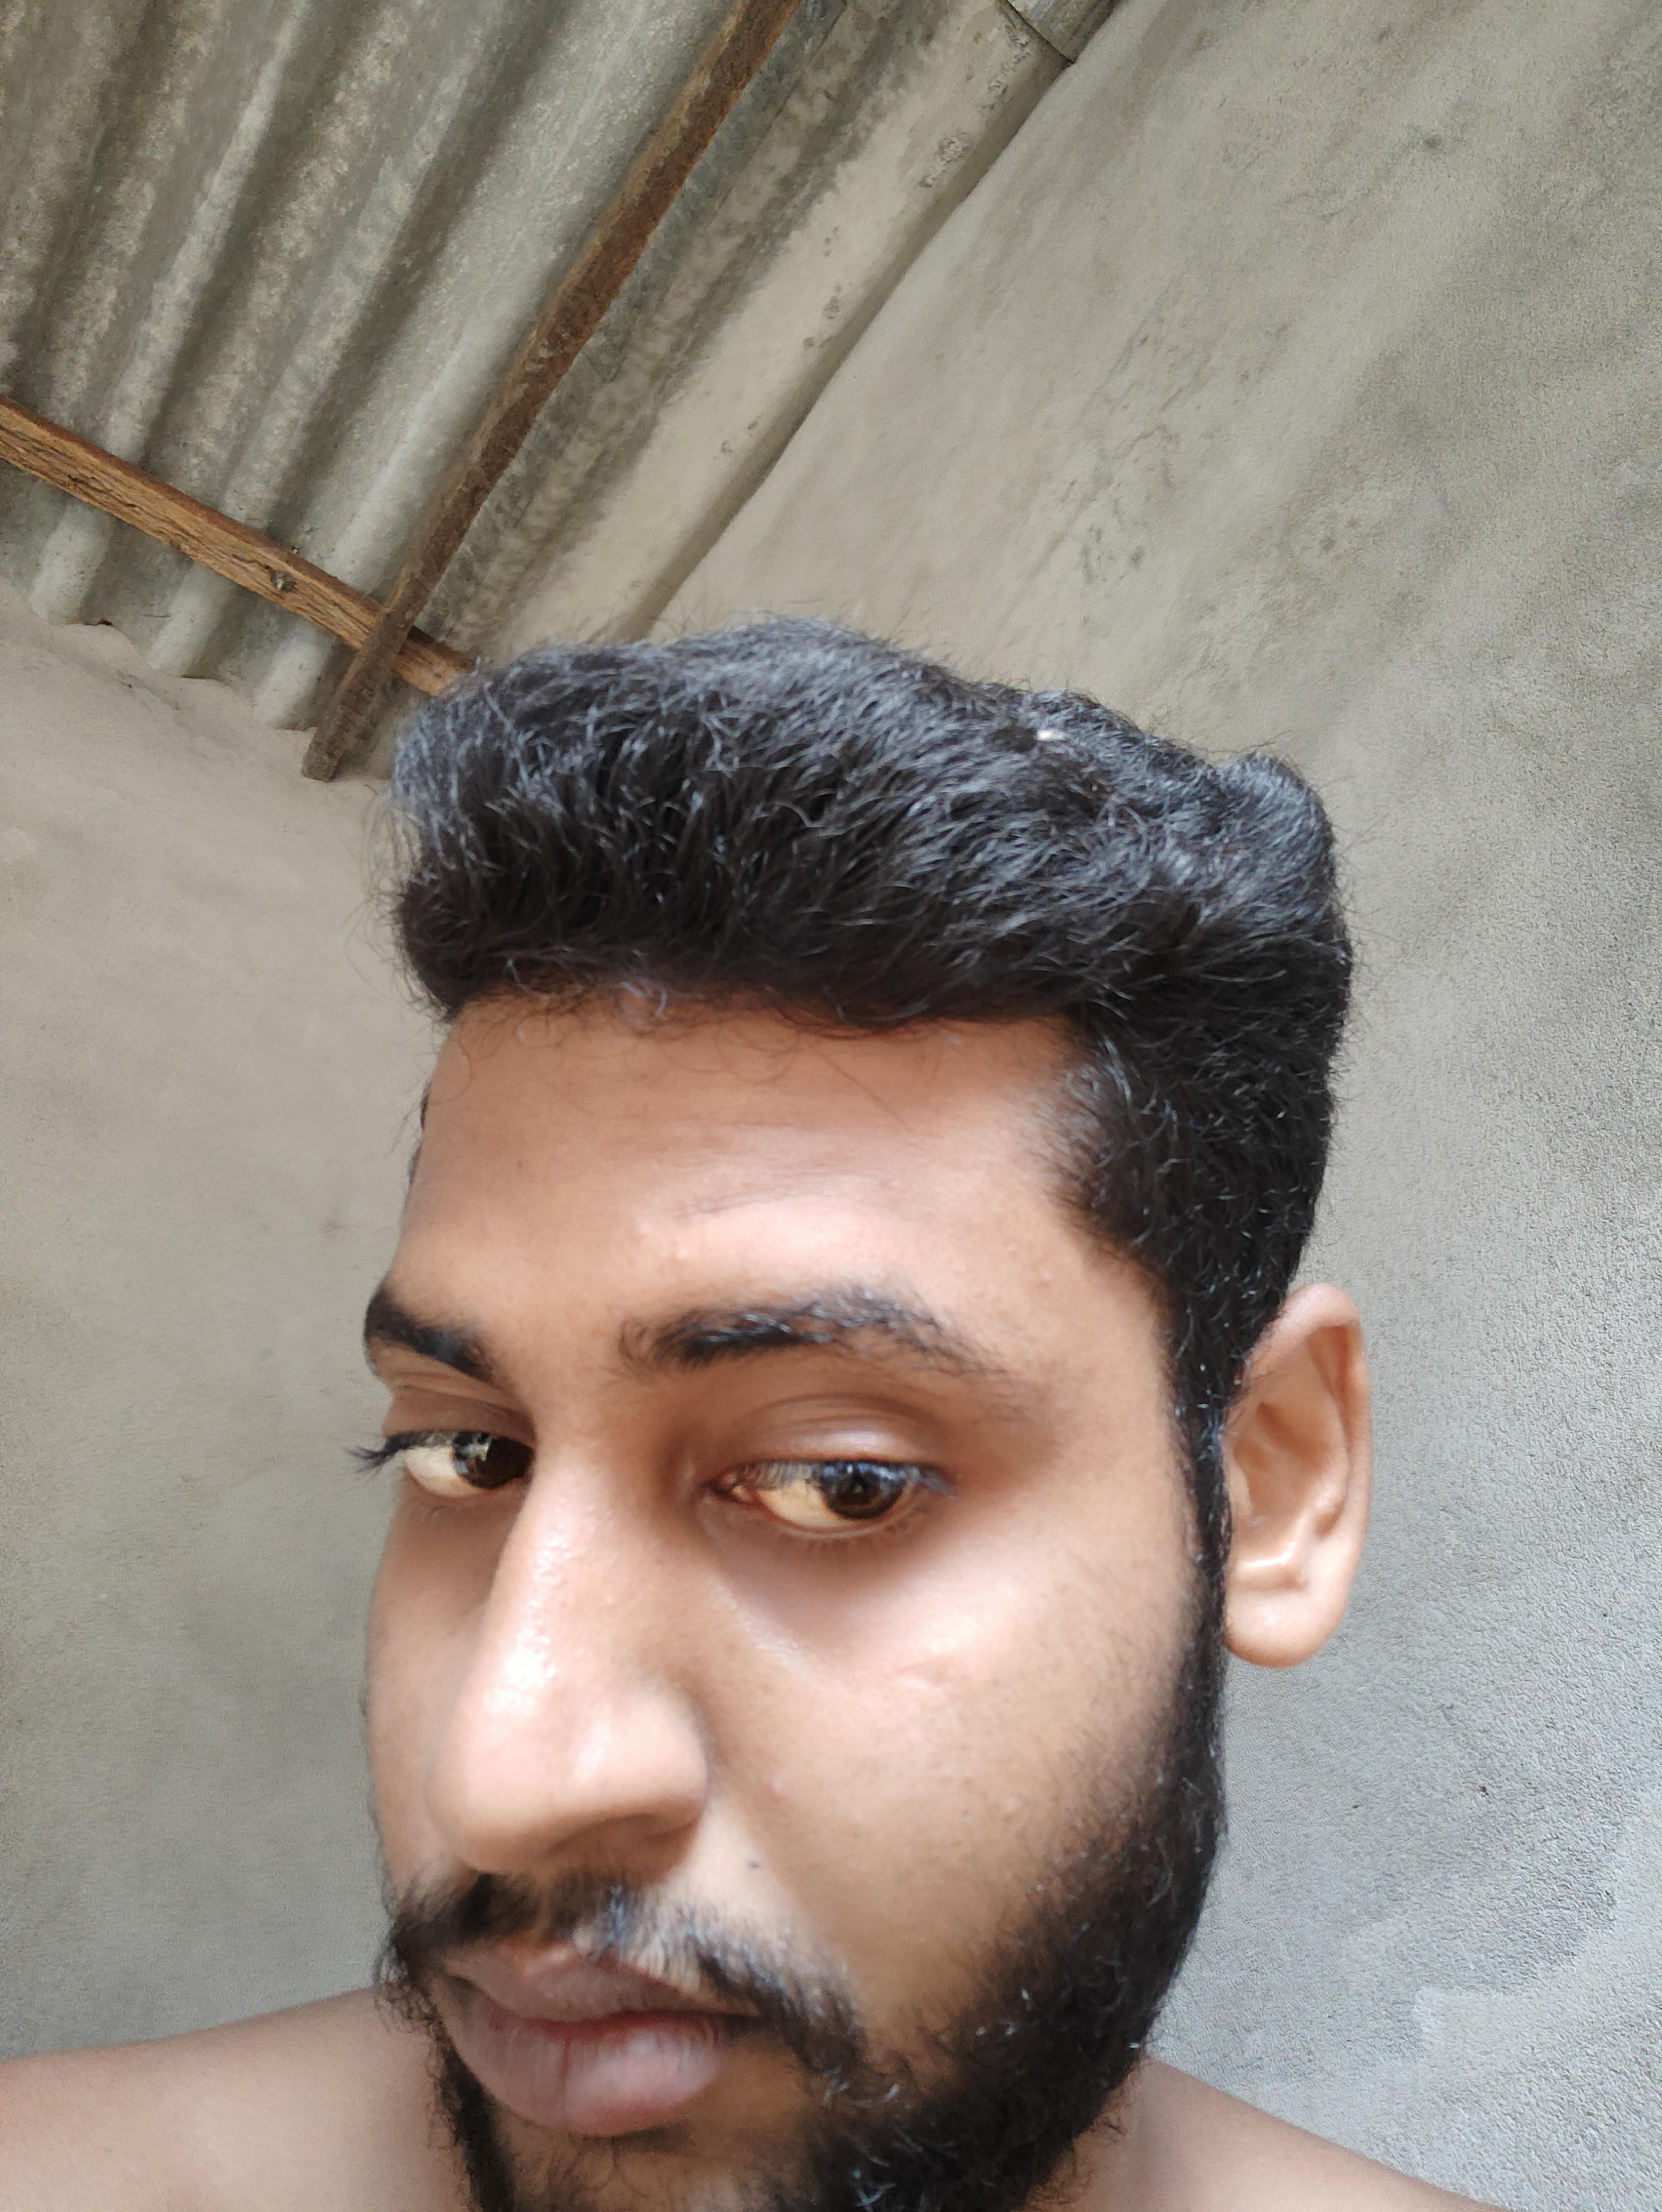Acne: (761, 1770, 798, 1814), (995, 1784, 1023, 1826), (625, 1212, 658, 1247), (667, 1243, 698, 1266), (1037, 1261, 1054, 1295)
Wrinkles: (667, 1175, 892, 1224), (649, 1107, 847, 1137), (630, 1077, 843, 1102)
